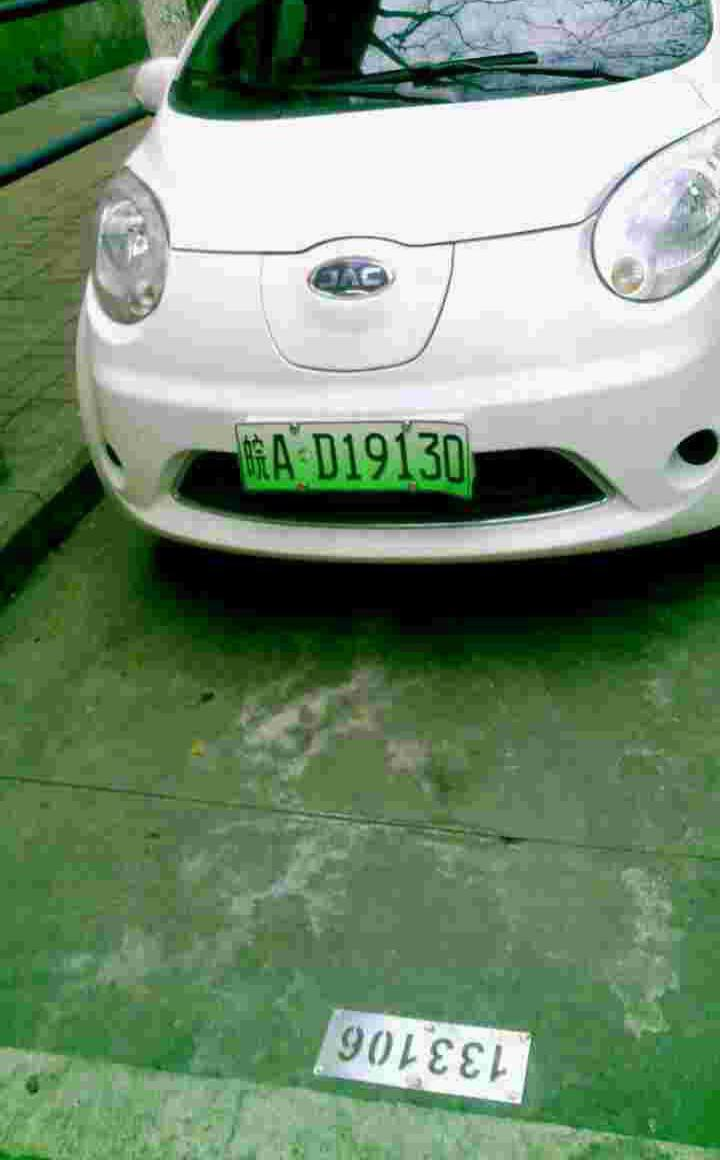car_green: (232, 414, 479, 507)
